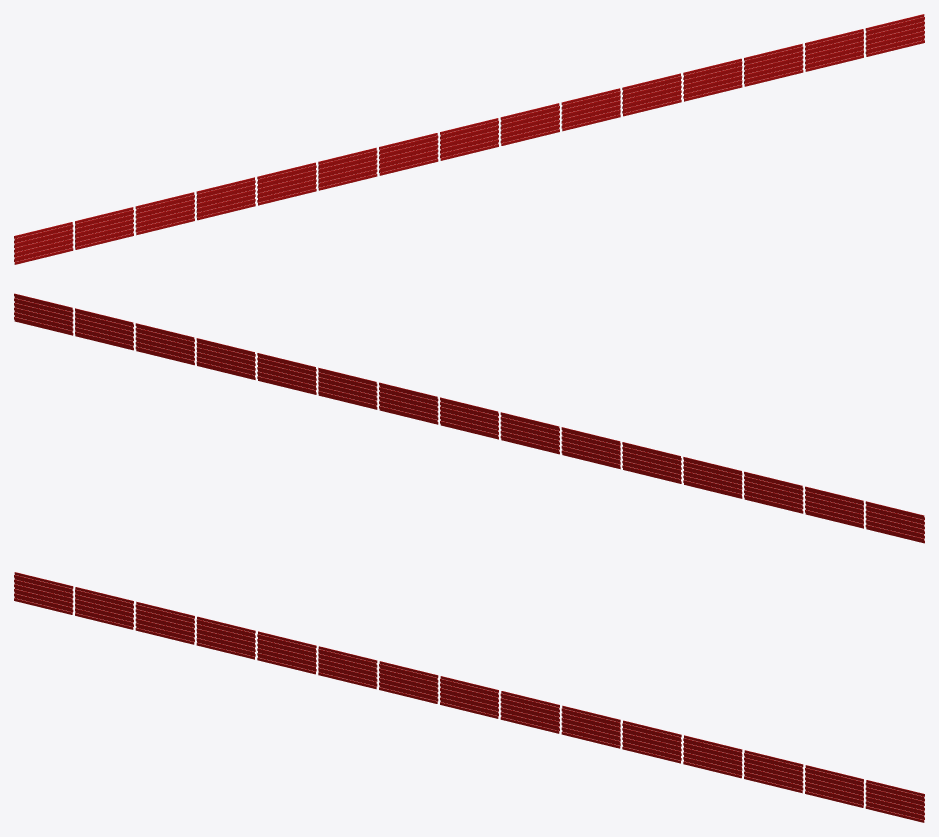
Rendered from iron fence (2).FBX.
The picture shows the model from 3 angles, top to bottom: view 1: azimuth 30°, elevation 25°; view 2: azimuth 150°, elevation 25°; view 3: azimuth 330°, elevation 25°; orthographic projection.
Visible parts, largest first — view 1: iron fence (2); view 2: iron fence (2); view 3: iron fence (2).
Boxes of the visible parts, x1,y1,x2,y2 form: iron fence (2): [14, 14, 924, 264]; iron fence (2): [14, 293, 924, 543]; iron fence (2): [14, 572, 924, 822].
Size of the model in its own units: 5009 by 149 by 9.69.
